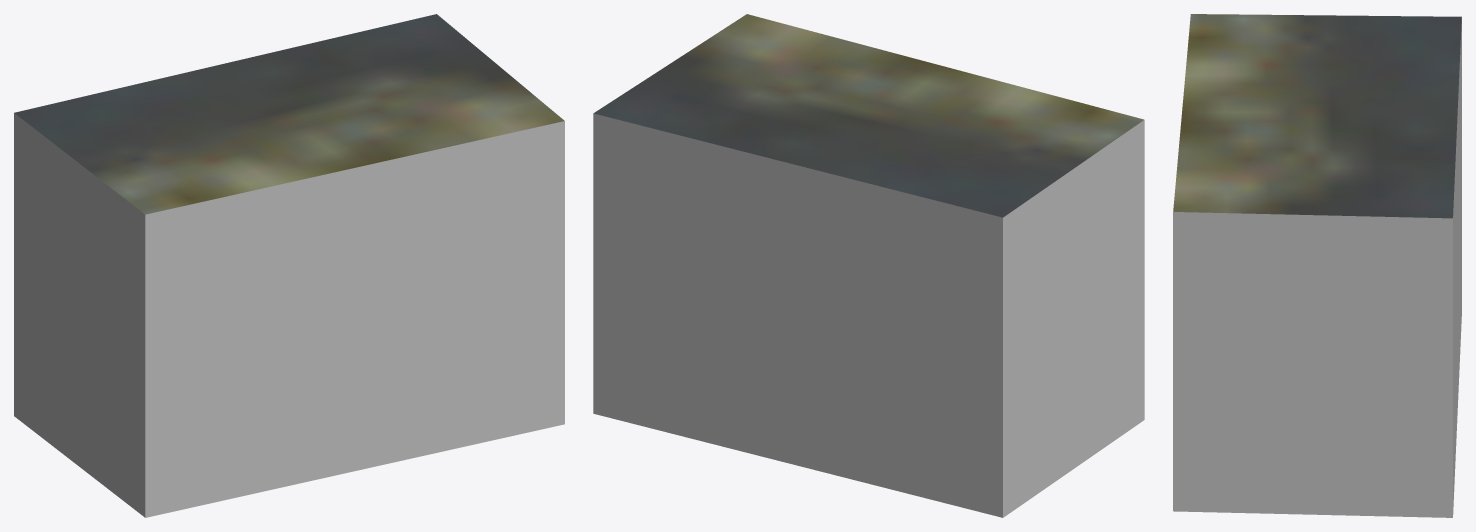
Rendered from DEBW_0010007Txgq.gltf.
3 views of the same model, side by side, from view 1: azimuth 30°, elevation 25°; view 2: azimuth 150°, elevation 25°; view 3: azimuth 270°, elevation 25° (orthographic).
Parts seen in each view (by area): view 1: Z_UP; view 2: Z_UP; view 3: Z_UP.
Part boxes in pixels (bbox=[...]): Z_UP: bbox=[14, 14, 564, 517]; Z_UP: bbox=[593, 14, 1144, 517]; Z_UP: bbox=[1173, 14, 1461, 517].
Bounding box in the file's own units: 4.39 × 3 × 2.62.
2 materials, 1 textured.
